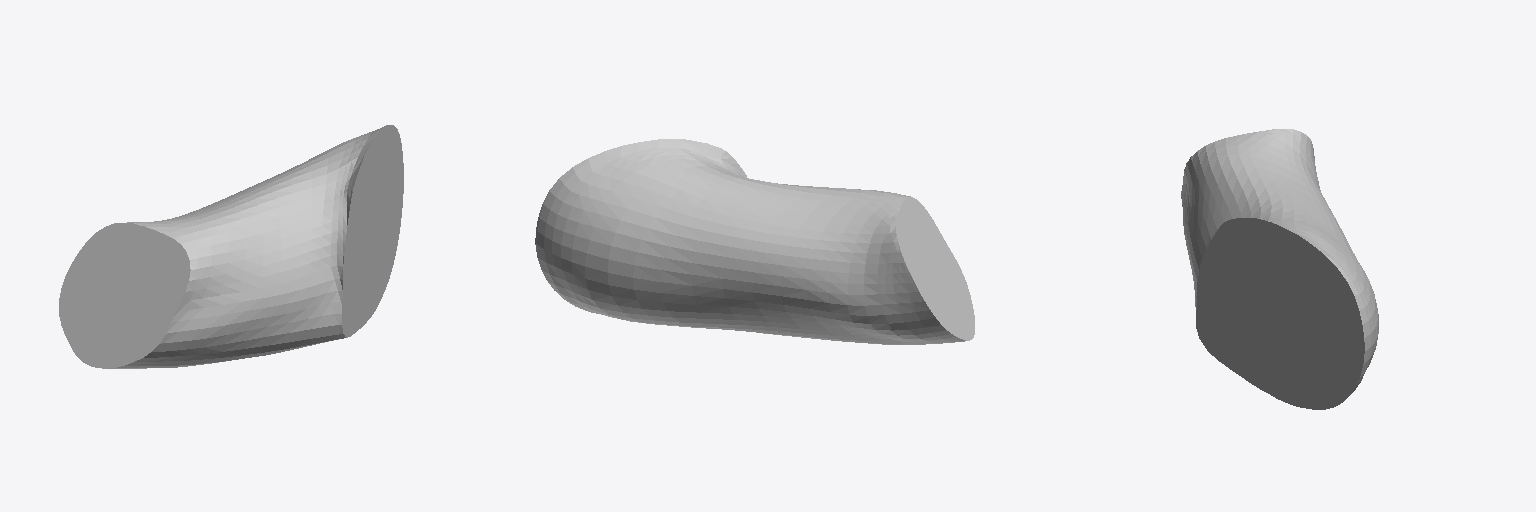
The model's file is upperarm__old.obj.
3 renders of one model, left to right at view 1: azimuth 30°, elevation 25°; view 2: azimuth 150°, elevation 25°; view 3: azimuth 270°, elevation 25°, orthographic.
Parts seen in each view (by area): view 1: upperarm_r_torso.007; view 2: upperarm_r_torso.007; view 3: upperarm_r_torso.007.
Part boxes in pixels (bbox=[...]): upperarm_r_torso.007: bbox=[59, 125, 403, 368]; upperarm_r_torso.007: bbox=[535, 139, 974, 344]; upperarm_r_torso.007: bbox=[1181, 129, 1378, 409].
Size of the model in its own units: 0.2738 by 0.12 by 0.1236.